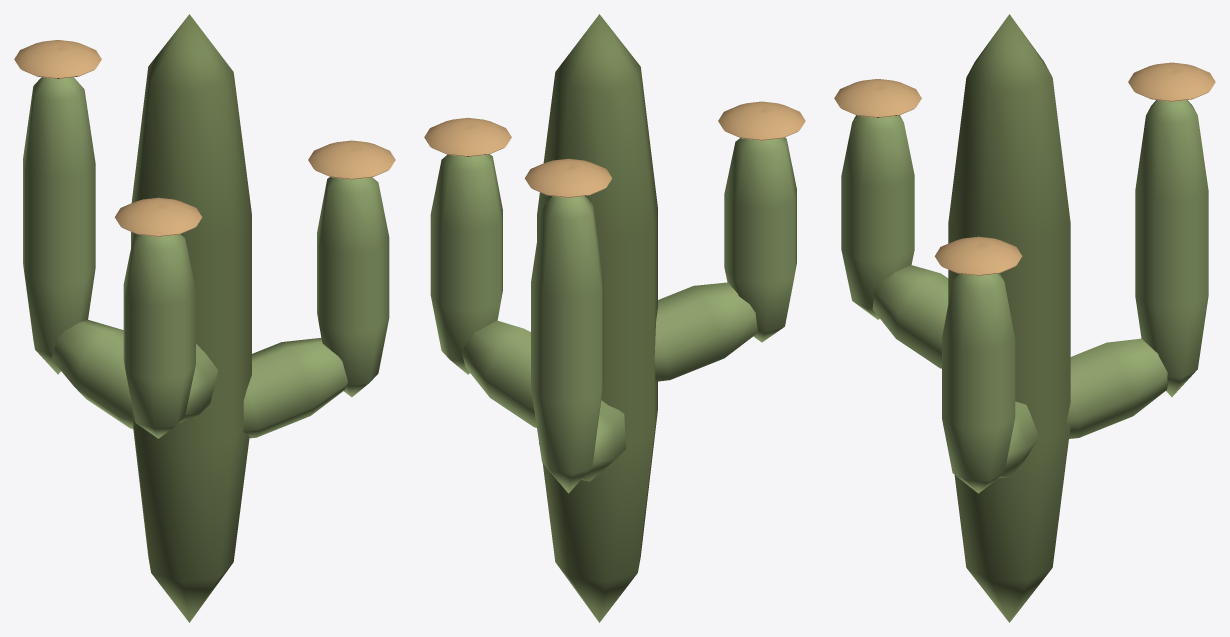
Rendered from tree-cactus.glb.
The picture shows the model from 3 angles, left to right: view 1: azimuth 30°, elevation 25°; view 2: azimuth 150°, elevation 25°; view 3: azimuth 270°, elevation 25°; orthographic projection.
Visible parts, largest first — view 1: root-succulent, succulent-8, succulent-2, succulent-5, succulent-1, succulent-7, parasol-3, parasol-6, parasol-9, succulent-4; view 2: root-succulent, succulent-8, succulent-2, succulent-5, succulent-4, succulent-1, parasol-6, parasol-3, parasol-9, succulent-7; view 3: root-succulent, succulent-8, succulent-2, succulent-5, succulent-7, succulent-4, parasol-9, parasol-3, parasol-6, succulent-1.
Part boxes in pixels (box(x1,y1,x2,y2)): root-succulent: box(131, 14, 251, 622); succulent-8: box(23, 77, 95, 374); succulent-2: box(317, 177, 389, 397); succulent-5: box(123, 233, 195, 438); succulent-1: box(243, 338, 347, 438); succulent-7: box(51, 319, 133, 428); parasol-3: box(308, 140, 395, 179); parasol-6: box(114, 197, 202, 236); parasol-9: box(14, 40, 101, 78); succulent-4: box(179, 344, 218, 423); root-succulent: box(537, 14, 657, 622); succulent-8: box(531, 196, 603, 493); succulent-2: box(430, 154, 502, 374); succulent-5: box(724, 137, 796, 342); succulent-4: box(654, 282, 757, 381); succulent-1: box(462, 320, 536, 427); parasol-6: box(718, 101, 805, 140); parasol-3: box(424, 118, 511, 156); parasol-9: box(524, 158, 612, 197); succulent-7: box(539, 400, 626, 481); root-succulent: box(948, 14, 1070, 622); succulent-8: box(1135, 100, 1208, 396); succulent-2: box(942, 273, 1015, 493); succulent-5: box(841, 115, 914, 319); succulent-7: box(1066, 338, 1167, 438); succulent-4: box(872, 265, 948, 368); parasol-9: box(1128, 62, 1215, 101); parasol-3: box(934, 236, 1022, 275); parasol-6: box(834, 79, 921, 117); succulent-1: box(998, 401, 1038, 478).
Bounding box in the file's own units: 2.47 × 4.5 × 2.56.
